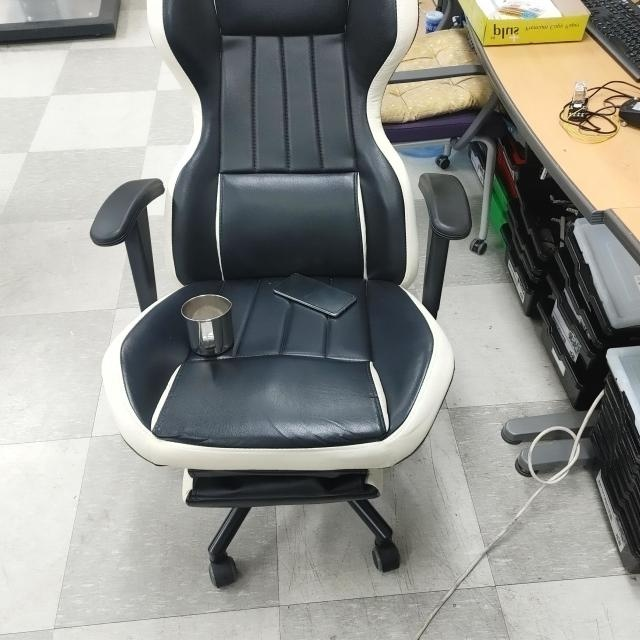cup: (180, 289, 236, 358)
phone: (273, 272, 358, 317)
